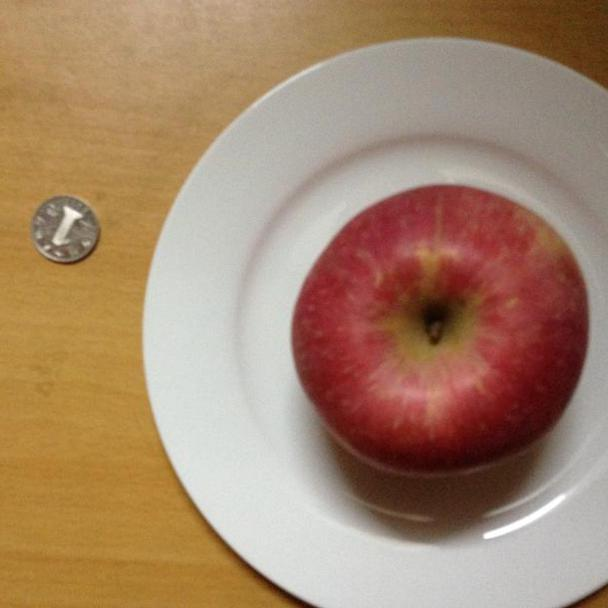apple: (288, 183, 590, 478)
